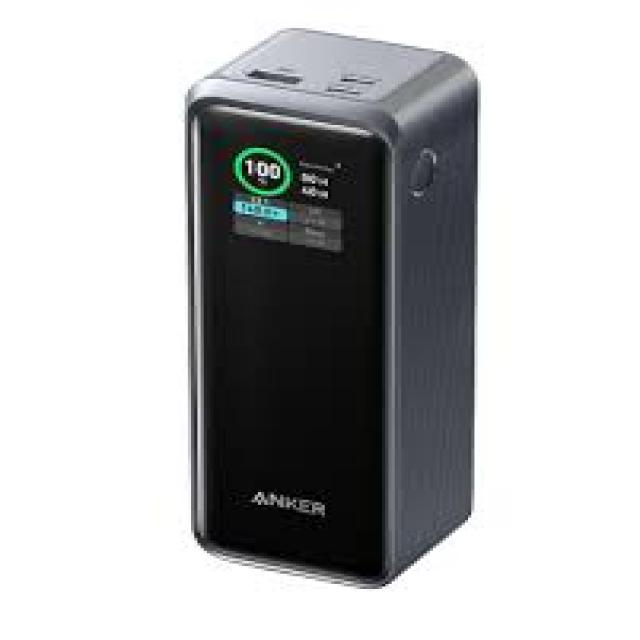power_bank: (177, 28, 484, 588)
